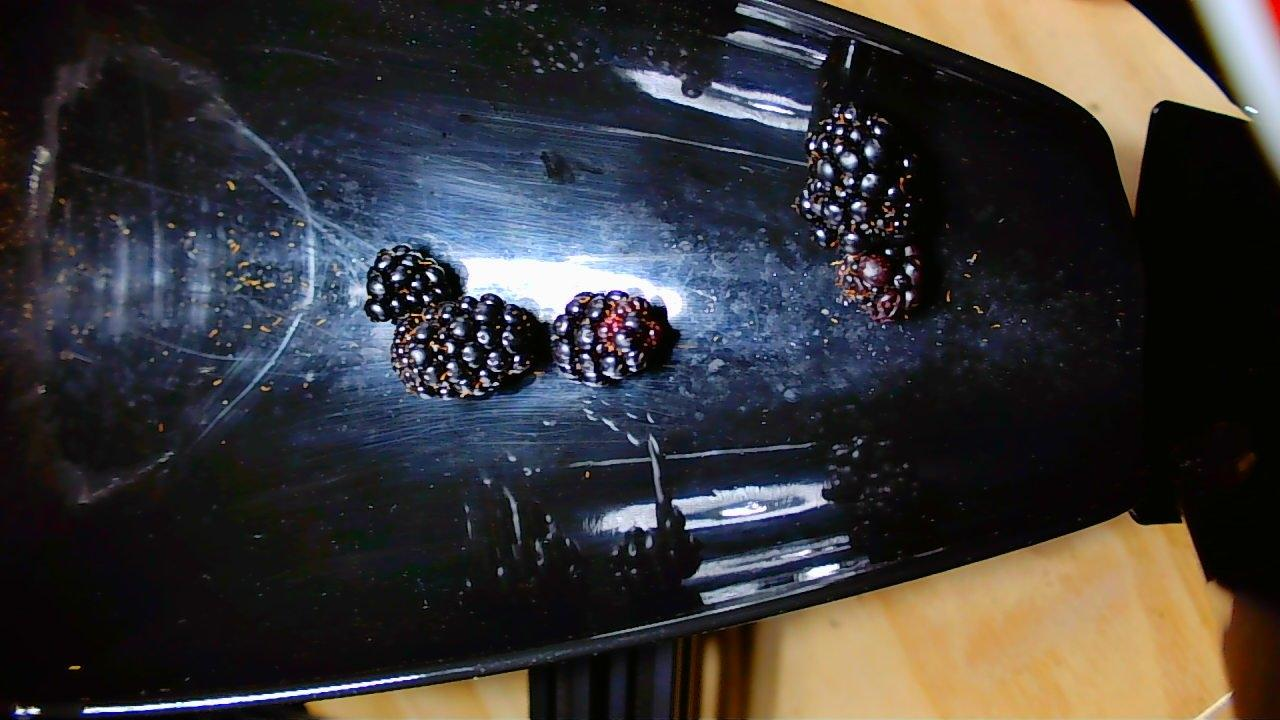berry: (800, 101, 910, 263), (392, 295, 536, 398), (556, 288, 675, 383), (363, 244, 461, 322), (836, 246, 918, 323)
